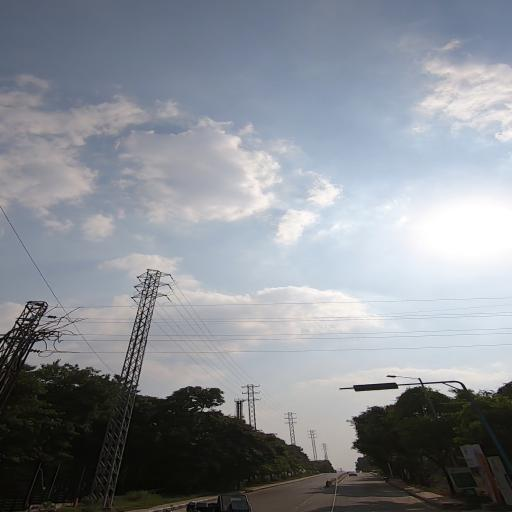Street_light: (384, 372, 423, 382)
